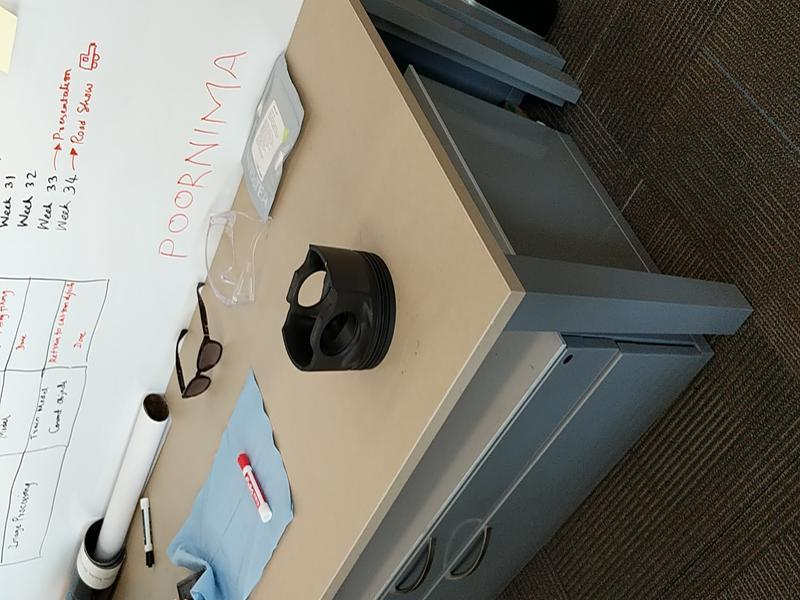piston: (262, 242, 397, 376)
